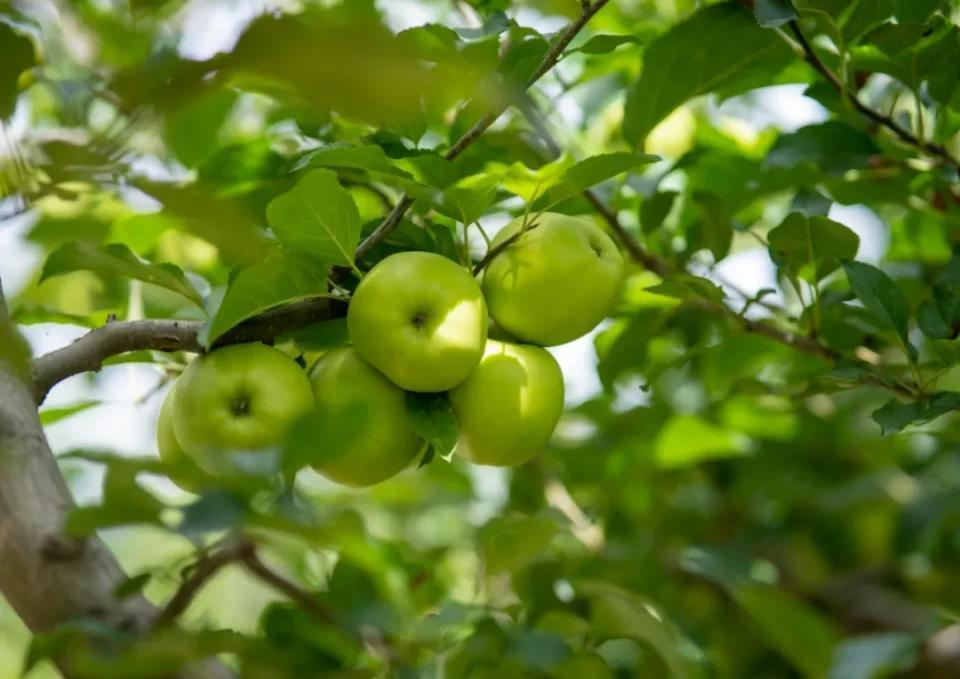apple: (171, 336, 313, 481), (347, 249, 489, 394), (288, 344, 430, 489), (479, 211, 621, 342), (480, 214, 619, 339)
